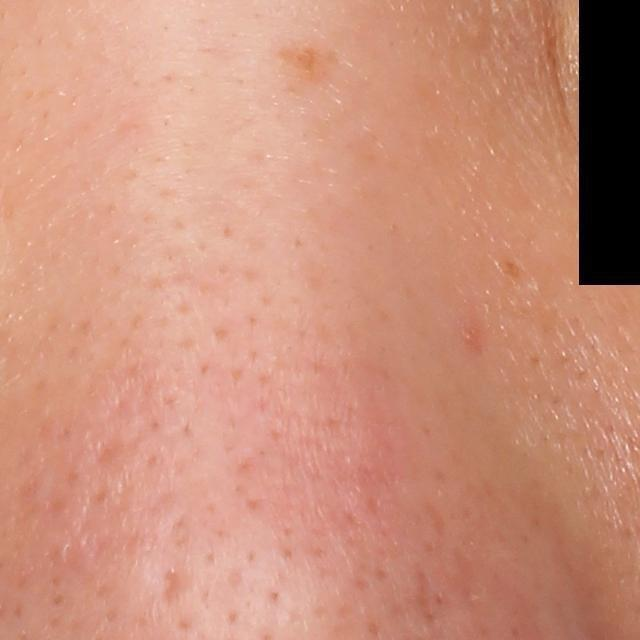atrophic_scar: (87, 429, 134, 473), (163, 563, 195, 605)
comedo: (457, 21, 490, 51)
